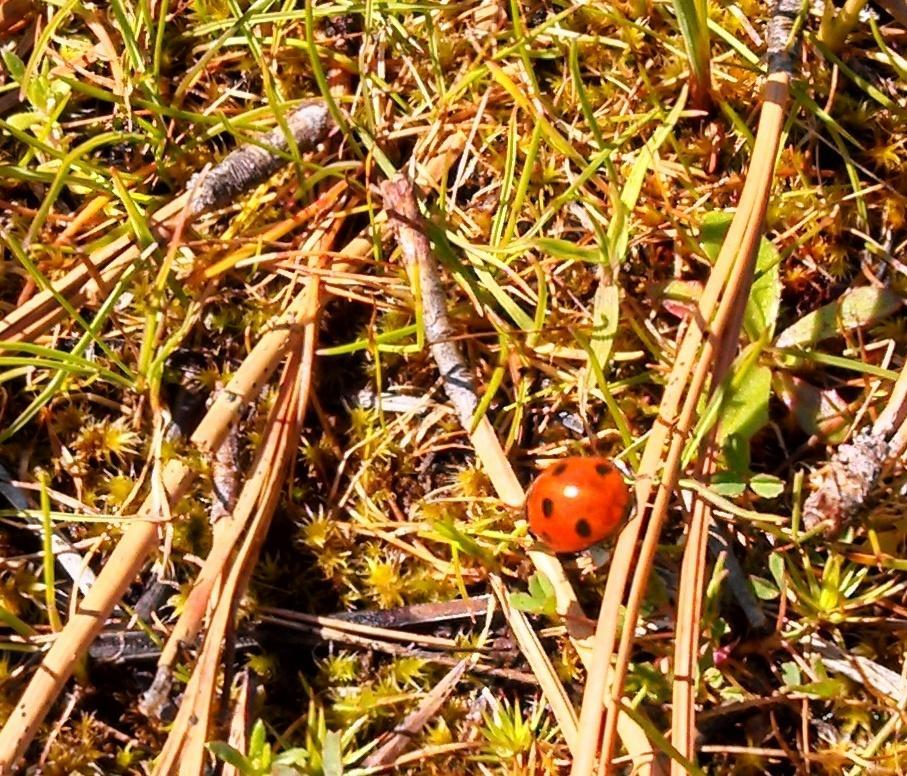ladybug: (523, 454, 633, 555)
